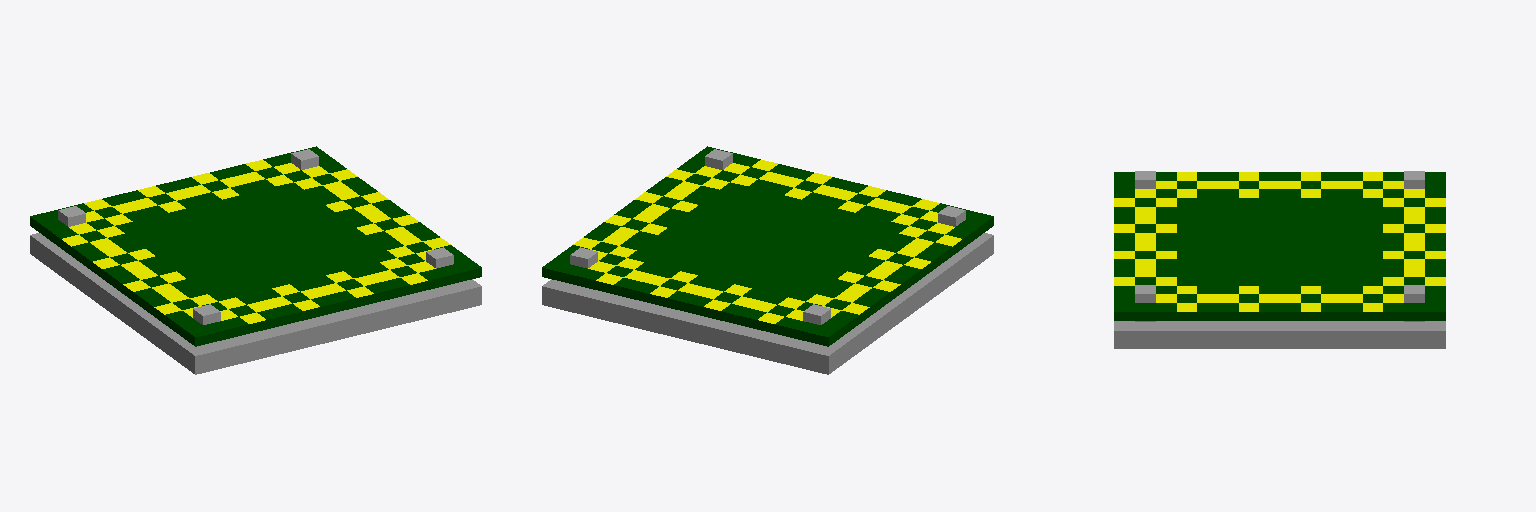
3 renders of one model, left to right at view 1: azimuth 30°, elevation 25°; view 2: azimuth 150°, elevation 25°; view 3: azimuth 270°, elevation 25°, orthographic.
Parts seen in each view (by area): view 1: Cube_Cube.001, Cube.001_Cube.002, Cube.005_Cube.006; view 2: Cube_Cube.001, Cube.001_Cube.002, Cube.005_Cube.006; view 3: Cube_Cube.001, Cube.001_Cube.002, Cube.005_Cube.006.
Part boxes in pixels (bbox=[...]): Cube_Cube.001: bbox=[30, 146, 481, 346]; Cube.001_Cube.002: bbox=[30, 233, 481, 374]; Cube.005_Cube.006: bbox=[58, 149, 453, 324]; Cube_Cube.001: bbox=[542, 146, 993, 346]; Cube.001_Cube.002: bbox=[542, 233, 993, 374]; Cube.005_Cube.006: bbox=[570, 149, 965, 324]; Cube_Cube.001: bbox=[1114, 172, 1445, 320]; Cube.001_Cube.002: bbox=[1114, 321, 1445, 348]; Cube.005_Cube.006: bbox=[1135, 171, 1424, 302].
Bounding box in the file's own units: 16 × 2.5 × 16.
9 materials, 1 textured.